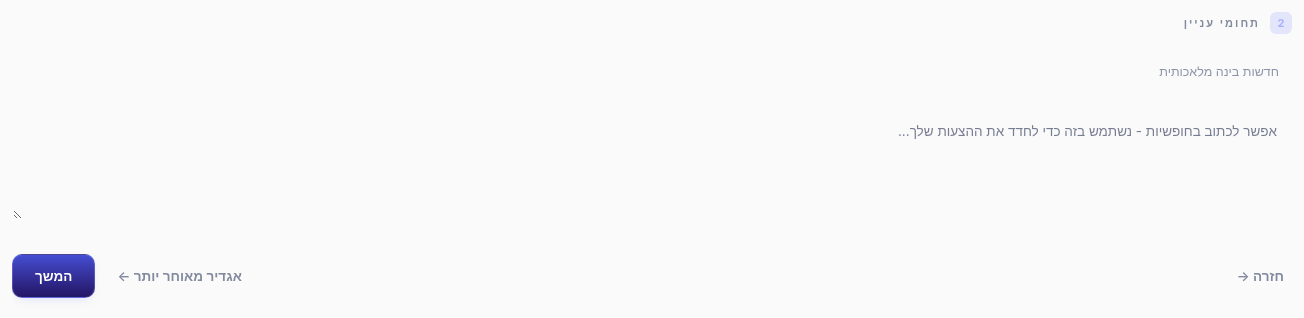
Test: InterestsStep - happy path › clicking a prompt suggestion fills the textarea
The width and height of the screenshot is (1304, 318).
Click the button "חדשות בינה מלאכותית": (1219, 72) left=1146, top=50, right=1292, bottom=94
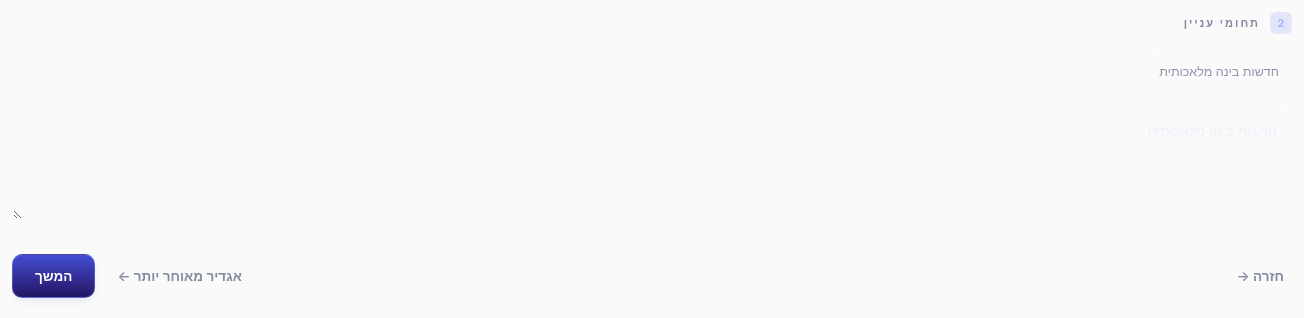
Check: the text box named "תחומי העניין שלך, במילים שלך" holds "חדשות בינה מלאכותית", box left=12, top=106, right=1292, bottom=220
